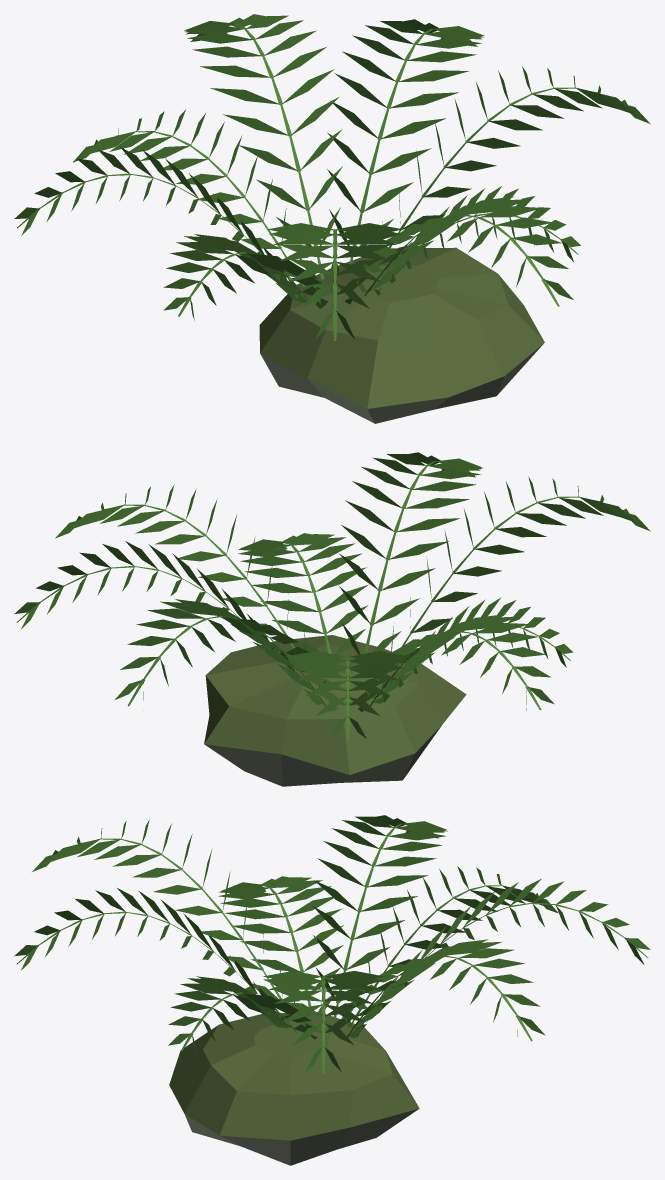
Rendered from fern-rock.glb.
3 views of the same model, one above another, from view 1: azimuth 30°, elevation 25°; view 2: azimuth 150°, elevation 25°; view 3: azimuth 270°, elevation 25° (orthographic). The views are drawn at different scales.
Visible parts, largest first — view 1: Monsoon_Fern_Cluster, Monsoon_Moss_Rock; view 2: Monsoon_Fern_Cluster, Monsoon_Moss_Rock; view 3: Monsoon_Fern_Cluster, Monsoon_Moss_Rock.
Part boxes in pixels (<box>): Monsoon_Fern_Cluster: <box>14,14,650,340</box>; Monsoon_Moss_Rock: <box>259,247,544,423</box>; Monsoon_Fern_Cluster: <box>14,452,650,739</box>; Monsoon_Moss_Rock: <box>204,635,466,786</box>; Monsoon_Fern_Cluster: <box>14,815,650,1073</box>; Monsoon_Moss_Rock: <box>169,1012,419,1165</box>.
Size of the model in its own units: 2.33 by 0.9542 by 2.5.
